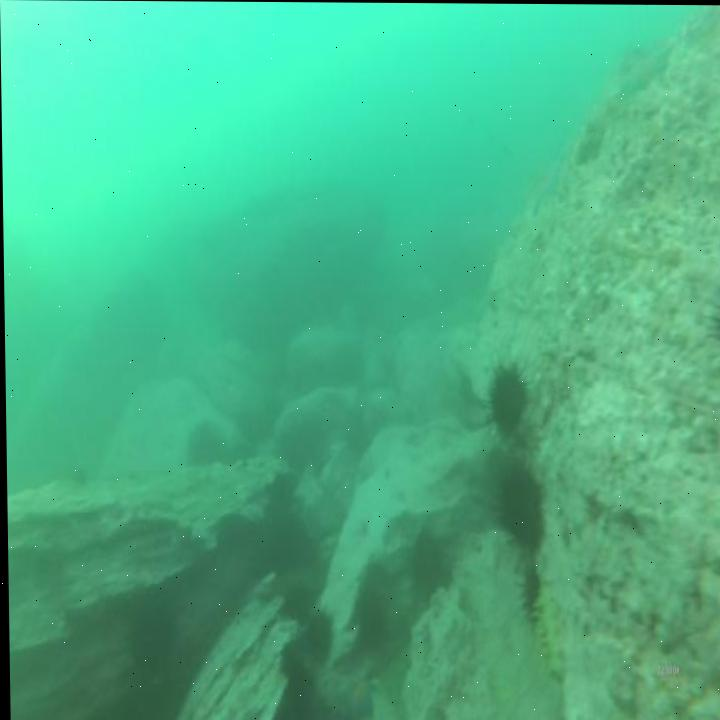echinus: (497, 460, 545, 552), (126, 600, 175, 677), (483, 362, 529, 442), (407, 523, 445, 600), (274, 633, 312, 699), (180, 417, 226, 471), (301, 608, 335, 669), (515, 565, 541, 636), (277, 583, 318, 624)
holothurian: (531, 574, 569, 684)
